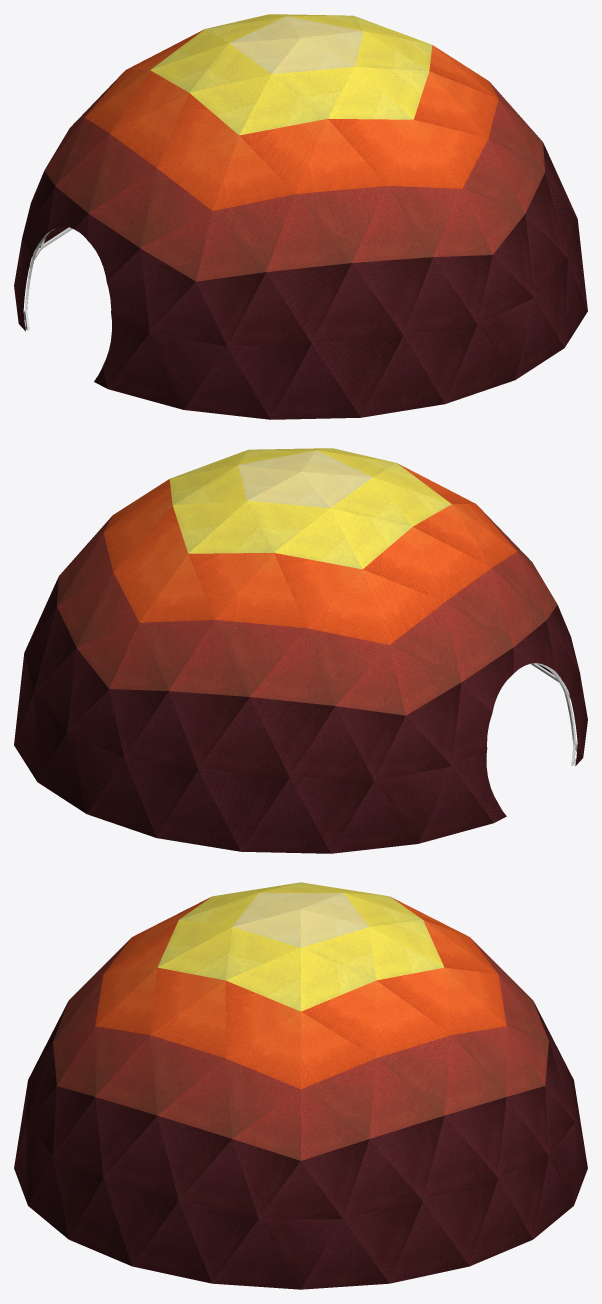
The model's file is ico-dome.fbx.
3 renders of one model, top to bottom at view 1: azimuth 30°, elevation 25°; view 2: azimuth 150°, elevation 25°; view 3: azimuth 270°, elevation 25°, orthographic.
Parts seen in each view (by area): view 1: Cover, Dome; view 2: Cover, Dome; view 3: Cover.
Part boxes in pixels (x1,y1,x2,y2): Cover: (14, 14, 587, 419); Dome: (23, 227, 108, 378); Cover: (14, 448, 587, 853); Dome: (530, 663, 577, 765); Cover: (14, 882, 587, 1289).
Bounding box in the file's own units: 964 × 490 × 982.
